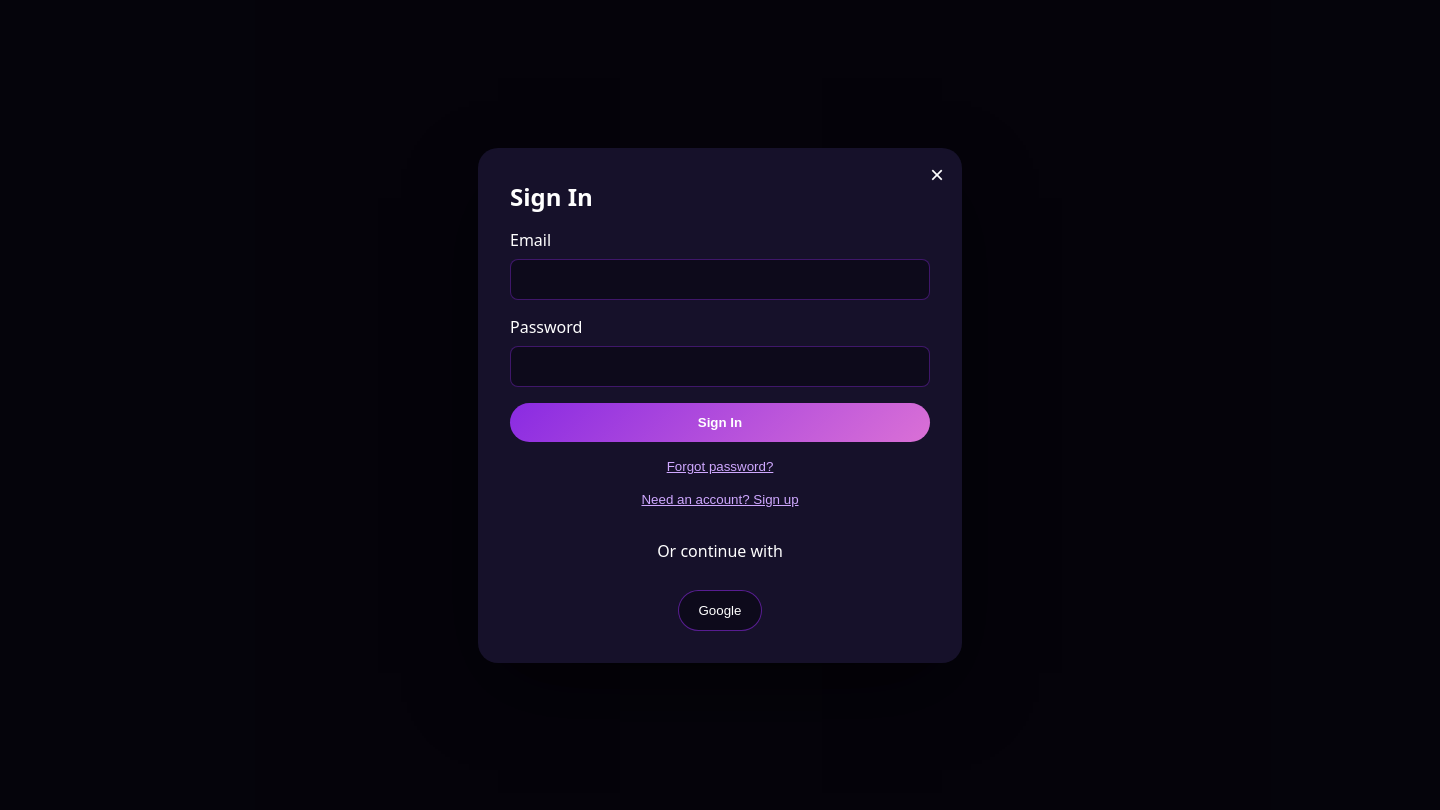
Test: AuthModal (unit) › switches from register back to login via switcher
This screenshot has width=1440, height=810.
Click the button "Need an account? Sign up": {"x": 720, "y": 499} [636,490,805,508]
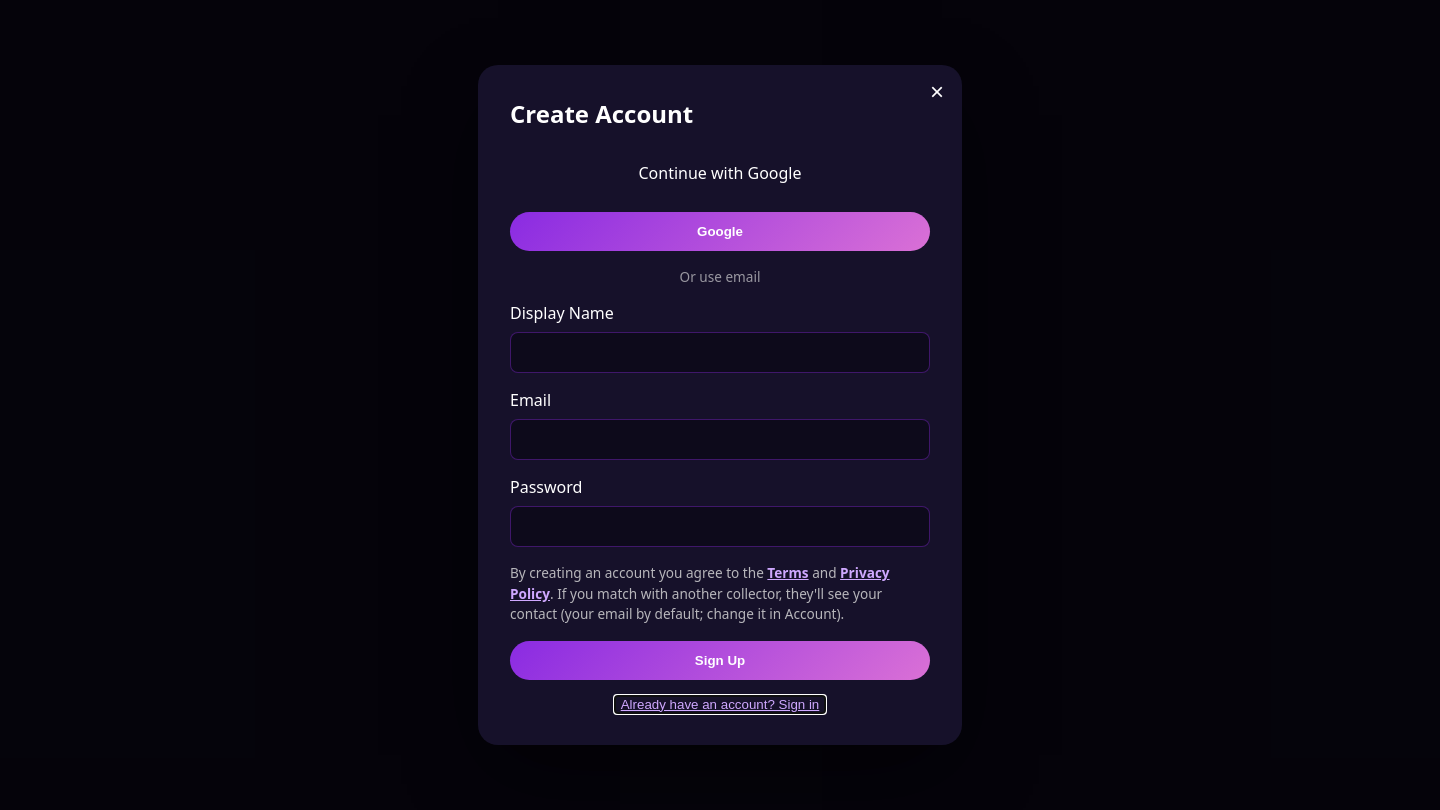
Click the button "Already have an account? Sign in": {"x": 720, "y": 704} [615,696,825,713]
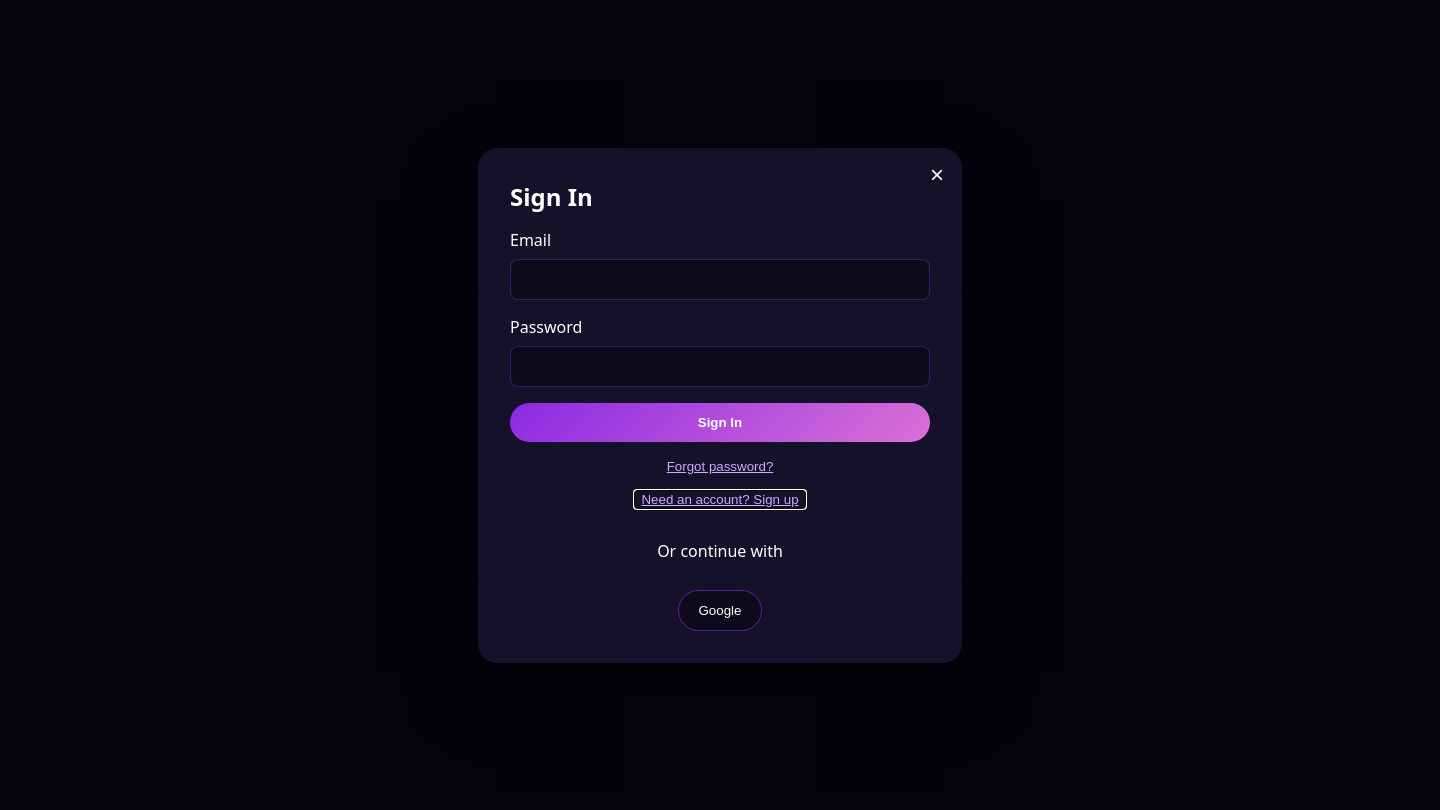
Expected: the heading "Sign In" is shown, [510,180,593,212]
